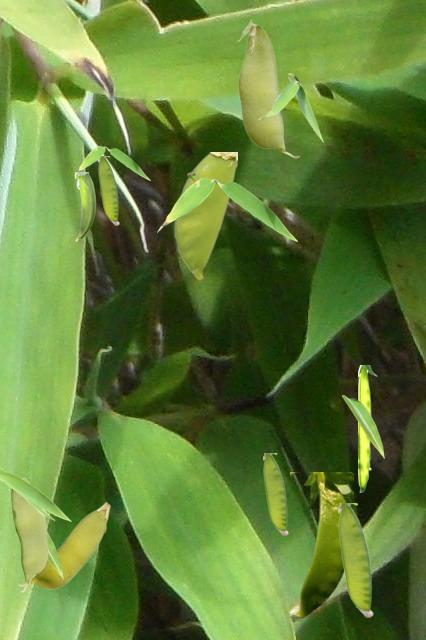pea: (290, 472, 352, 617), (237, 19, 299, 157), (18, 502, 109, 588), (174, 152, 236, 278), (11, 478, 47, 591), (338, 503, 372, 616), (358, 365, 376, 491), (263, 453, 287, 534), (75, 172, 96, 240), (98, 156, 118, 224)
